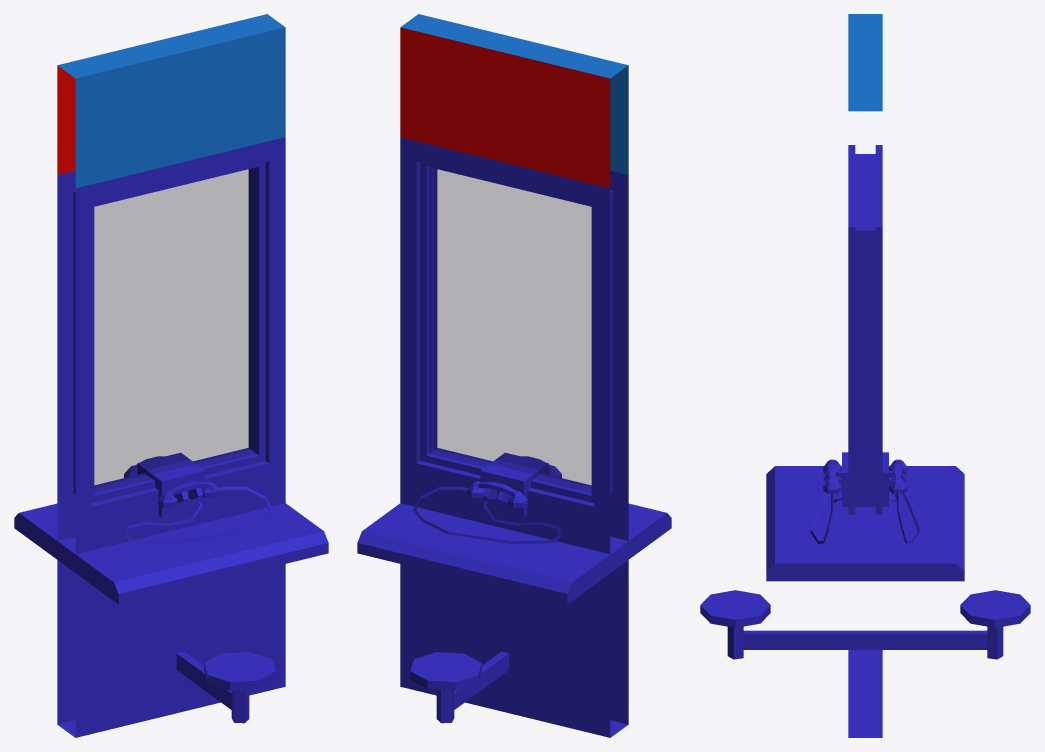
Rendered from SM_wall11.fbx.
The picture shows the model from 3 angles, left to right: view 1: azimuth 30°, elevation 25°; view 2: azimuth 150°, elevation 25°; view 3: azimuth 270°, elevation 25°; orthographic projection. The views are drawn at different scales.
Visible parts, largest first — view 1: wall2; view 2: wall2; view 3: wall2.
Part boxes in pixels (box(x1,y1,x2,y2)): wall2: box(14, 14, 328, 737); wall2: box(357, 14, 671, 737); wall2: box(700, 14, 1030, 737).
Size of the model in its own units: 100 by 300 by 143.
